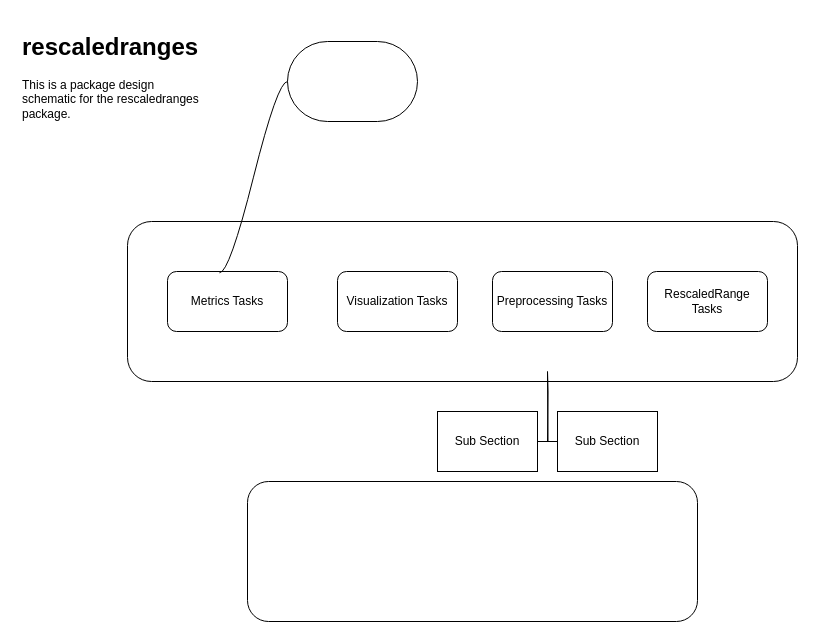
The diagram is 815 pixels wide and 639 high, and some of its shapes have lost their labels. Each missing label, with the centre of its shape:
Flow: (472,551)
Sub Topic: (352,81)
